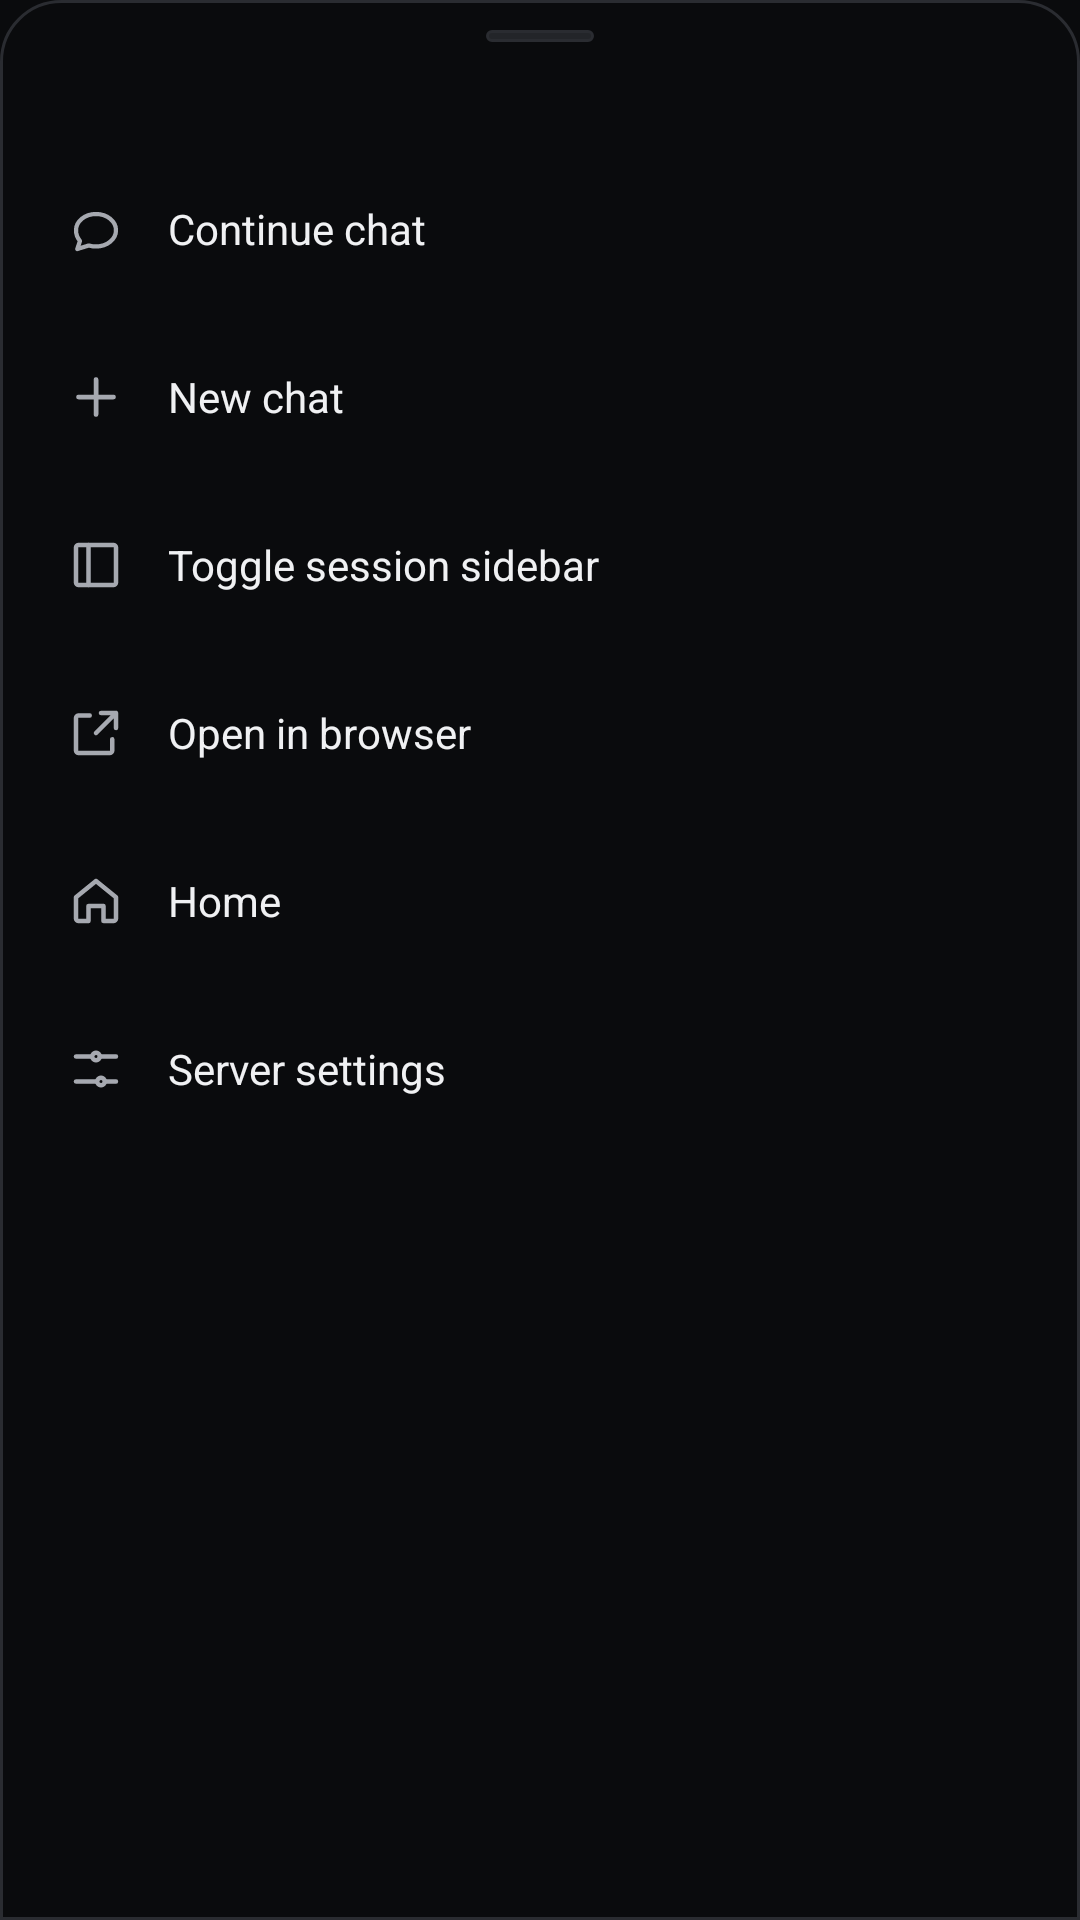

Icons on this 1080×1920 Android screen, each with the point to tap as (x=x, y=y):
add: (x=96, y=397)
panel: (x=96, y=565)
